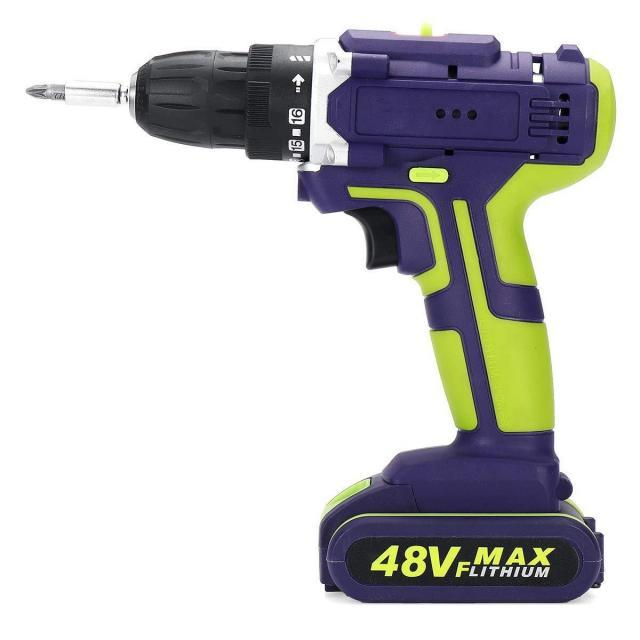drill: (26, 23, 617, 606)
